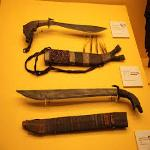Golok: (11, 82, 146, 108), (11, 16, 117, 42)
